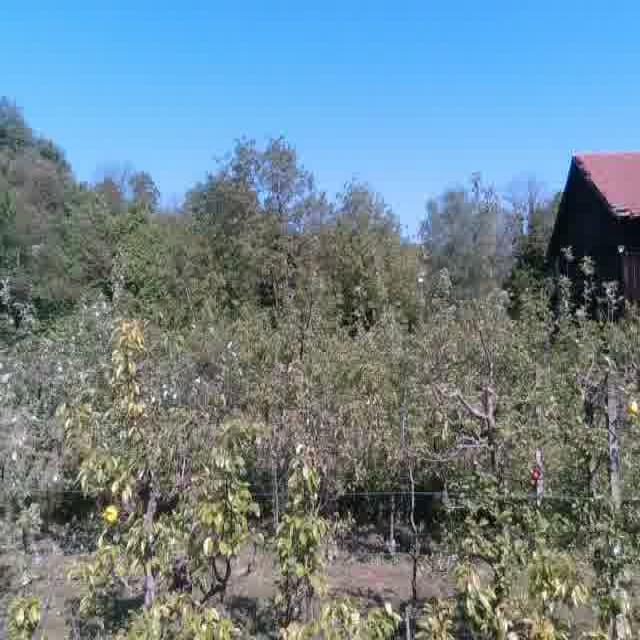red: (529, 465, 542, 485)
yellow: (99, 501, 121, 527)
